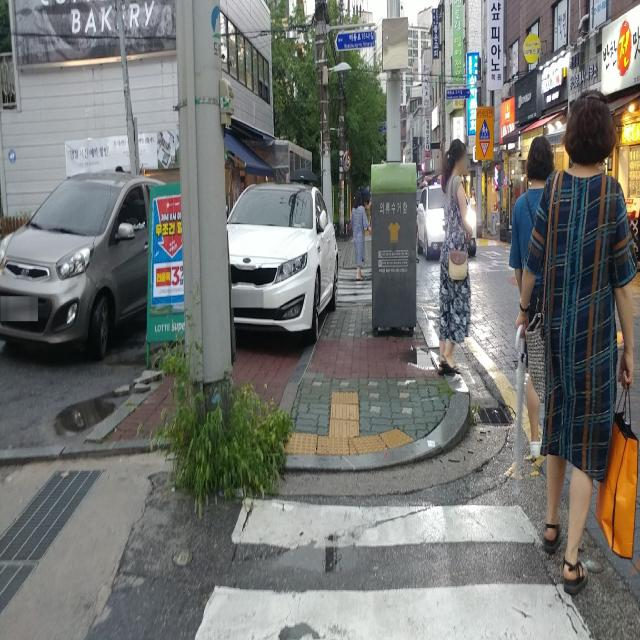횡단보도: (192, 493, 596, 640)
